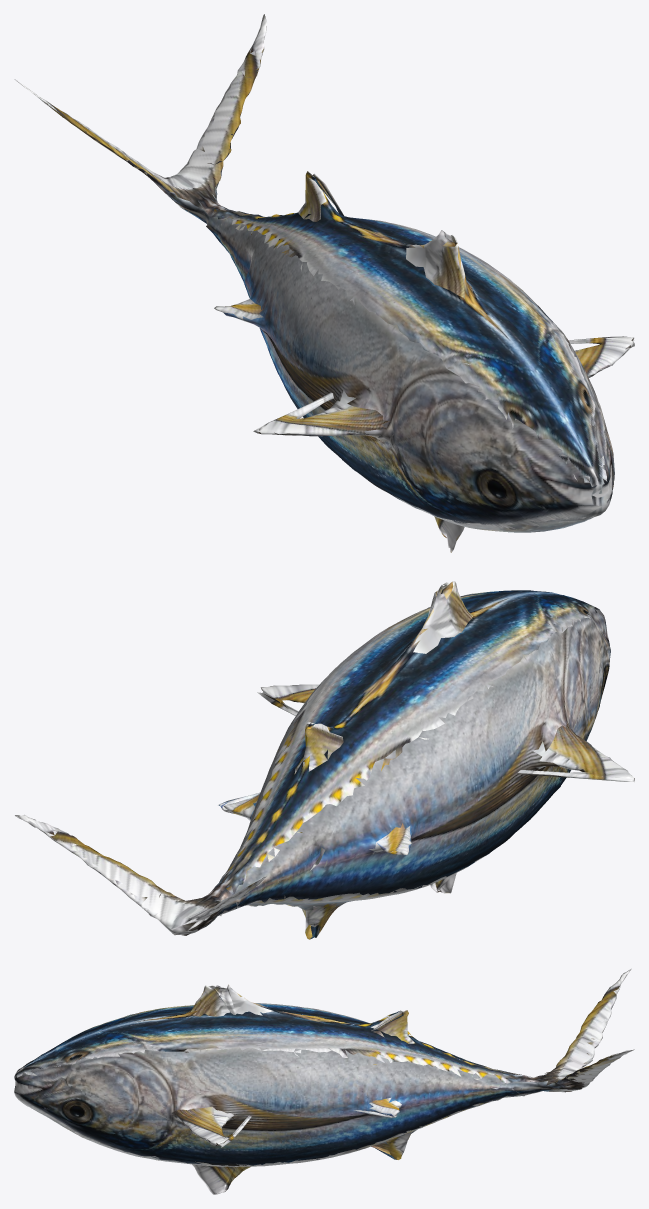
Rendered from fish_bigeye.glb.
3 views of the same model, one above another, from view 1: azimuth 30°, elevation 25°; view 2: azimuth 150°, elevation 25°; view 3: azimuth 270°, elevation 25° (orthographic). The views are drawn at different scales.
Visible parts, largest first — view 1: orient; view 2: orient; view 3: orient.
Boxes of the visible parts, bbox=[...] form: orient: bbox=[14, 14, 634, 552]; orient: bbox=[15, 581, 634, 939]; orient: bbox=[14, 968, 634, 1194].
Bounding box in the file's own units: 0.9226 × 0.7263 × 1.93.
1 material, 1 textured.
